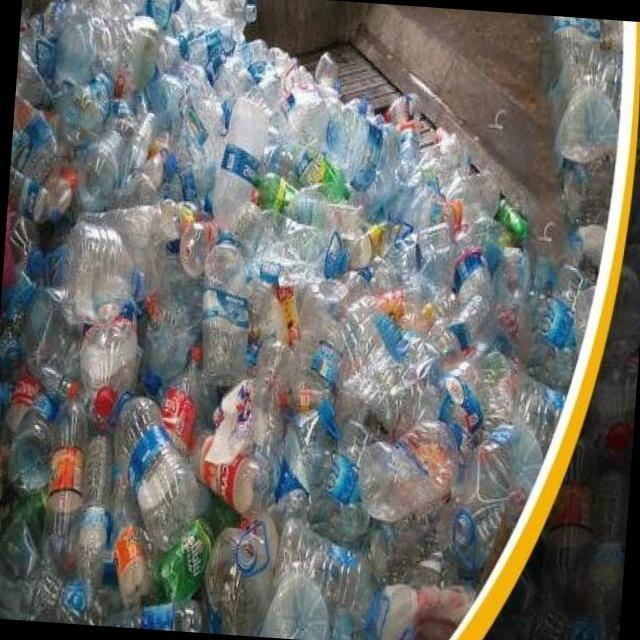defected: (270, 517, 383, 640), (355, 414, 463, 528), (237, 338, 299, 520), (39, 378, 94, 570), (197, 232, 254, 388), (264, 400, 339, 514), (153, 502, 226, 614), (203, 524, 273, 637), (160, 80, 220, 182), (374, 581, 471, 640), (255, 575, 340, 640), (554, 88, 622, 168), (139, 292, 195, 388), (442, 223, 496, 320), (8, 385, 54, 497), (545, 17, 603, 103), (322, 406, 368, 514), (439, 166, 502, 244), (72, 129, 127, 213), (0, 377, 41, 483), (59, 74, 115, 150), (116, 106, 160, 193), (115, 10, 161, 90), (440, 290, 491, 357), (2, 212, 50, 280), (561, 584, 617, 640), (344, 220, 398, 274), (176, 211, 216, 282), (187, 20, 240, 72), (15, 46, 58, 106), (237, 36, 279, 91), (494, 194, 532, 249), (382, 89, 424, 134), (339, 95, 368, 156), (310, 48, 344, 99), (213, 0, 258, 33)
good: (108, 384, 207, 537), (543, 432, 598, 606), (60, 218, 148, 322), (100, 460, 161, 607), (209, 94, 270, 234), (289, 276, 353, 408), (529, 261, 590, 394), (453, 422, 516, 549), (70, 435, 114, 612), (187, 431, 271, 518), (75, 309, 139, 416), (579, 341, 637, 454), (249, 209, 353, 272), (586, 470, 628, 603), (158, 341, 208, 447), (288, 144, 356, 218), (104, 590, 204, 632), (2, 518, 42, 621), (473, 352, 520, 433), (6, 167, 61, 224), (249, 168, 300, 216), (396, 125, 422, 181)
